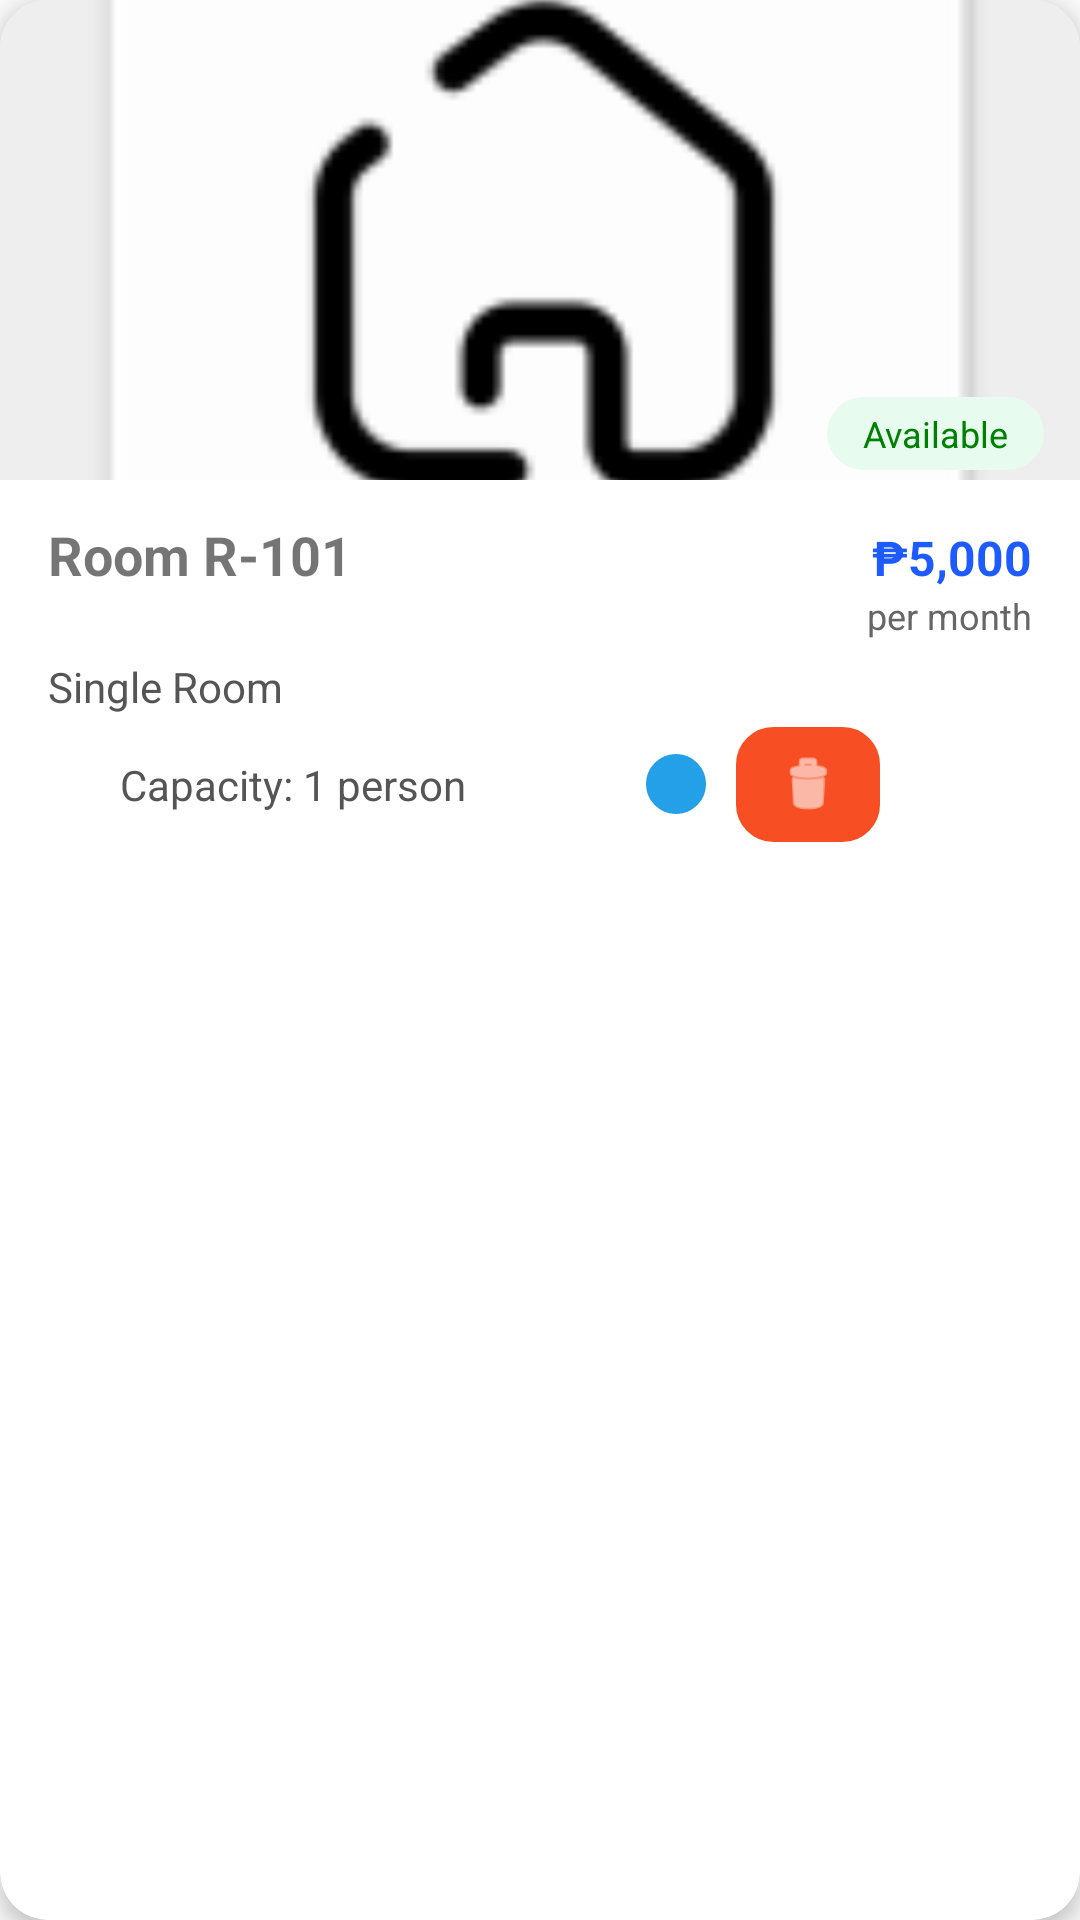

Named icons in this screenshot (1080 x 1920) and their centers, point (x, y):
delete: point (808, 784)
